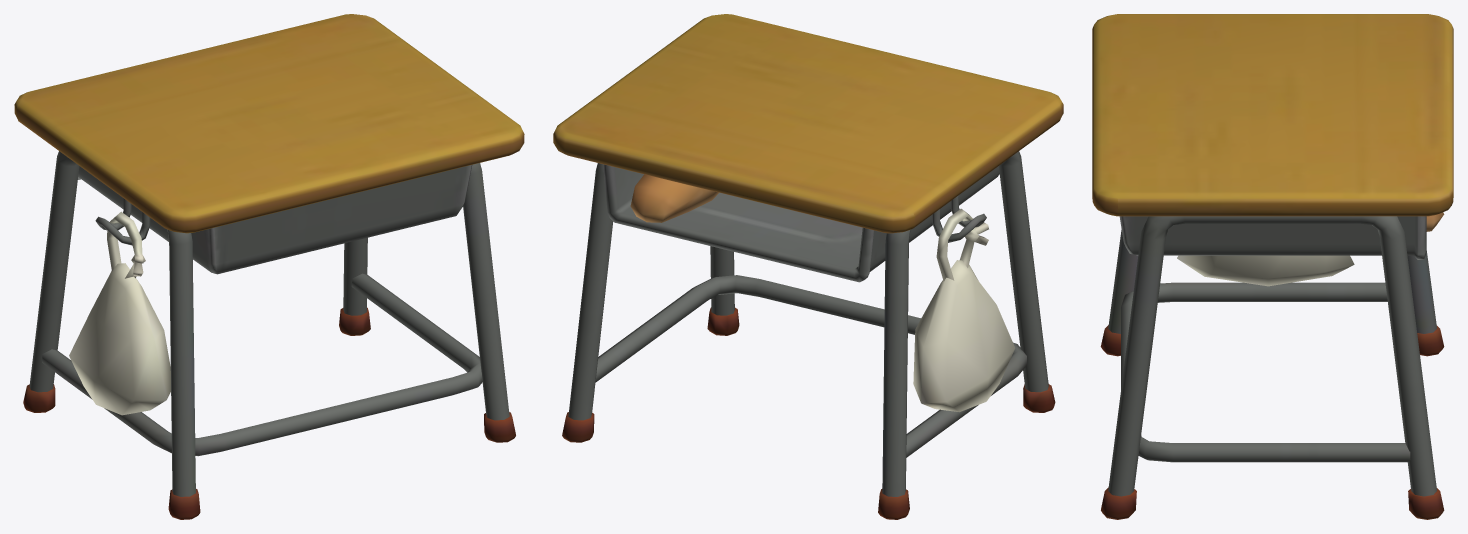
3 renders of one model, left to right at view 1: azimuth 30°, elevation 25°; view 2: azimuth 150°, elevation 25°; view 3: azimuth 270°, elevation 25°, orthographic. The views are drawn at different scales.
Size of the model in its own units: 9.32 by 7.68 by 7.66.
Materials: 1 (1 with a texture image).
